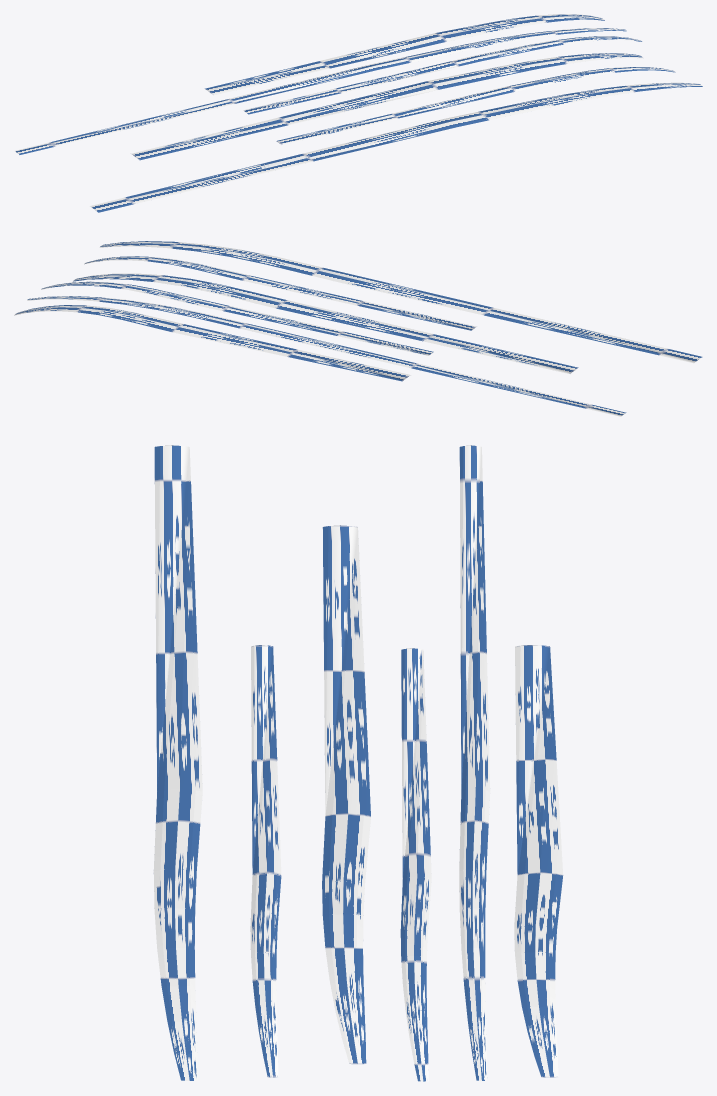
The model's file is Wind8.fbx.
3 views of the same model, one above another, from view 1: azimuth 30°, elevation 25°; view 2: azimuth 150°, elevation 25°; view 3: azimuth 270°, elevation 25° (orthographic). The views are drawn at different scales.
Visible parts, largest first — view 1: SM_e_Env_e_201_Wind003; view 2: SM_e_Env_e_201_Wind003; view 3: SM_e_Env_e_201_Wind003.
Part boxes in pixels (x1,y1,x2,y2): SM_e_Env_e_201_Wind003: (15,14,702,212); SM_e_Env_e_201_Wind003: (14,241,702,416); SM_e_Env_e_201_Wind003: (153,445,563,1081).
Size of the model in its own units: 1008 by 47.05 by 301.
